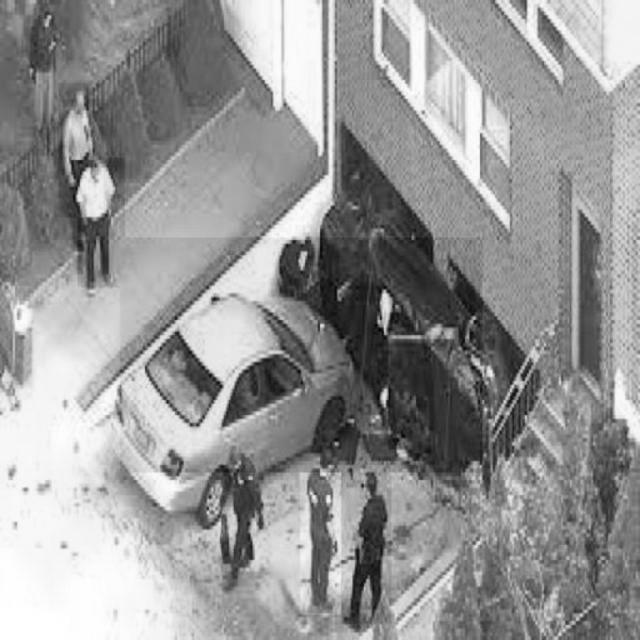accident: (120, 238, 484, 472)
person: (342, 468, 392, 624), (300, 446, 344, 614), (222, 456, 272, 593), (78, 157, 125, 288), (60, 84, 105, 218), (30, 4, 62, 128)
